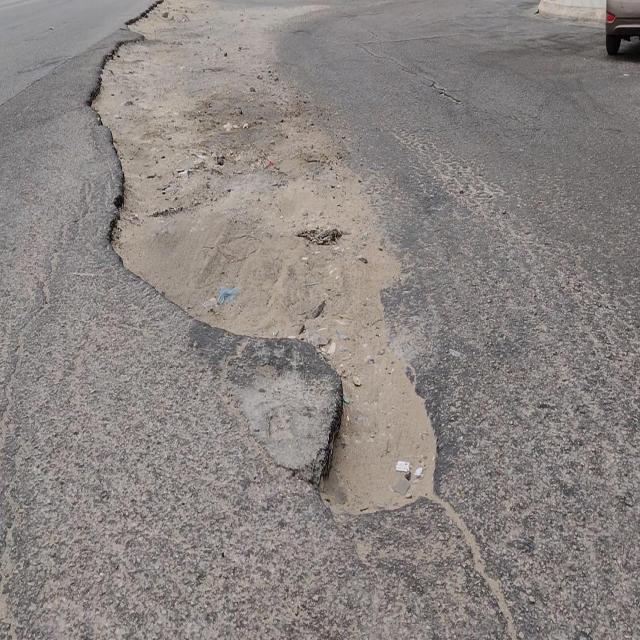Potholes: (308, 340, 443, 522), (106, 175, 176, 266), (86, 72, 145, 161), (101, 35, 164, 66)
